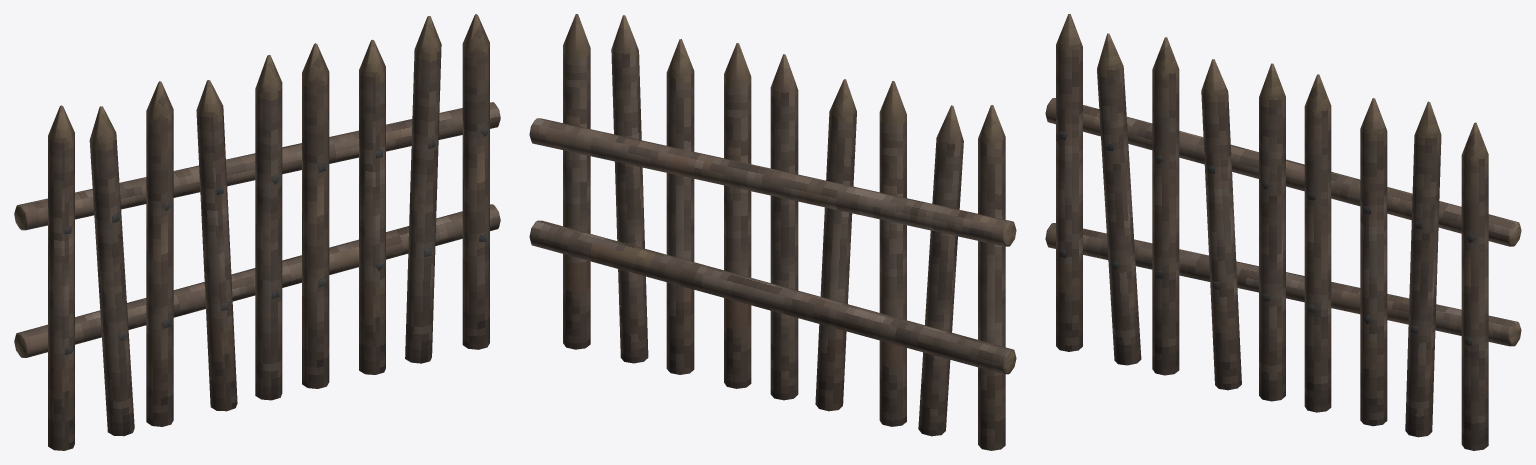
File: objects_un_base_barricade02.gltf
The picture shows the model from 3 angles, left to right: view 1: azimuth 30°, elevation 25°; view 2: azimuth 150°, elevation 25°; view 3: azimuth 330°, elevation 25°; orthographic projection. The views are drawn at different scales.
Parts seen in each view (by area): view 1: barricade02_mesh_shape:objects_un_base_barricade02_01; view 2: barricade02_mesh_shape:objects_un_base_barricade02_01; view 3: barricade02_mesh_shape:objects_un_base_barricade02_01.
Part boxes in pixels (box(x1,y1,x2,y2)): barricade02_mesh_shape:objects_un_base_barricade02_01: box(14, 14, 500, 450); barricade02_mesh_shape:objects_un_base_barricade02_01: box(529, 14, 1016, 450); barricade02_mesh_shape:objects_un_base_barricade02_01: box(1045, 14, 1521, 450).
Size of what is drawn, in the model's own units: 4.01 by 2.74 by 0.3713.
1 material, 1 textured.
